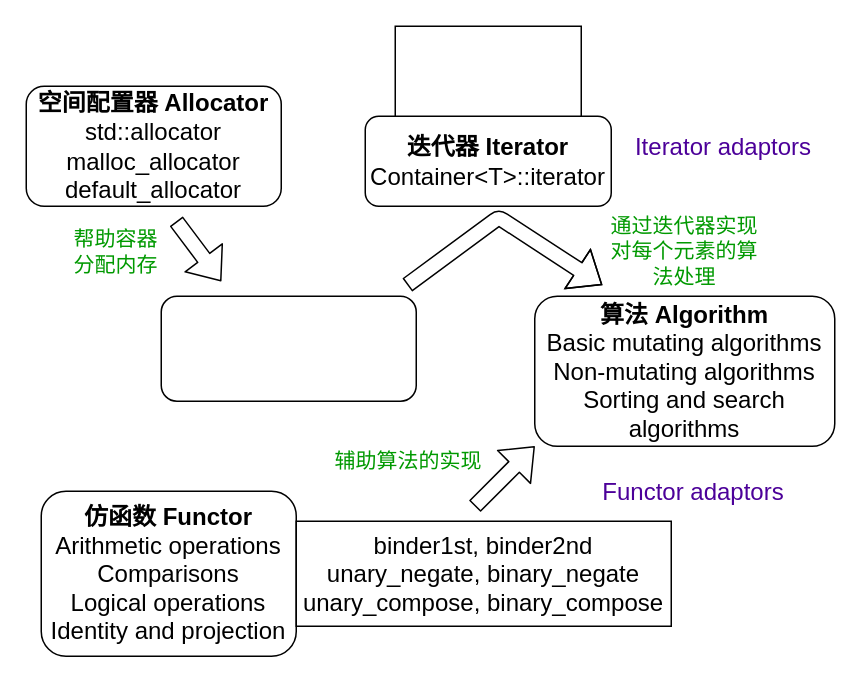
The diagram is 863 pixels wide and 683 high, and some of its shapes have lost their labels. The box of each missing label's shape, as (x1, y1, x2, y2) in pixels:
insert iterators stream iterators reverse iterators: (394, 25, 581, 116)
容器 Container Sequence Containers Associative Containers: (160, 295, 416, 401)
